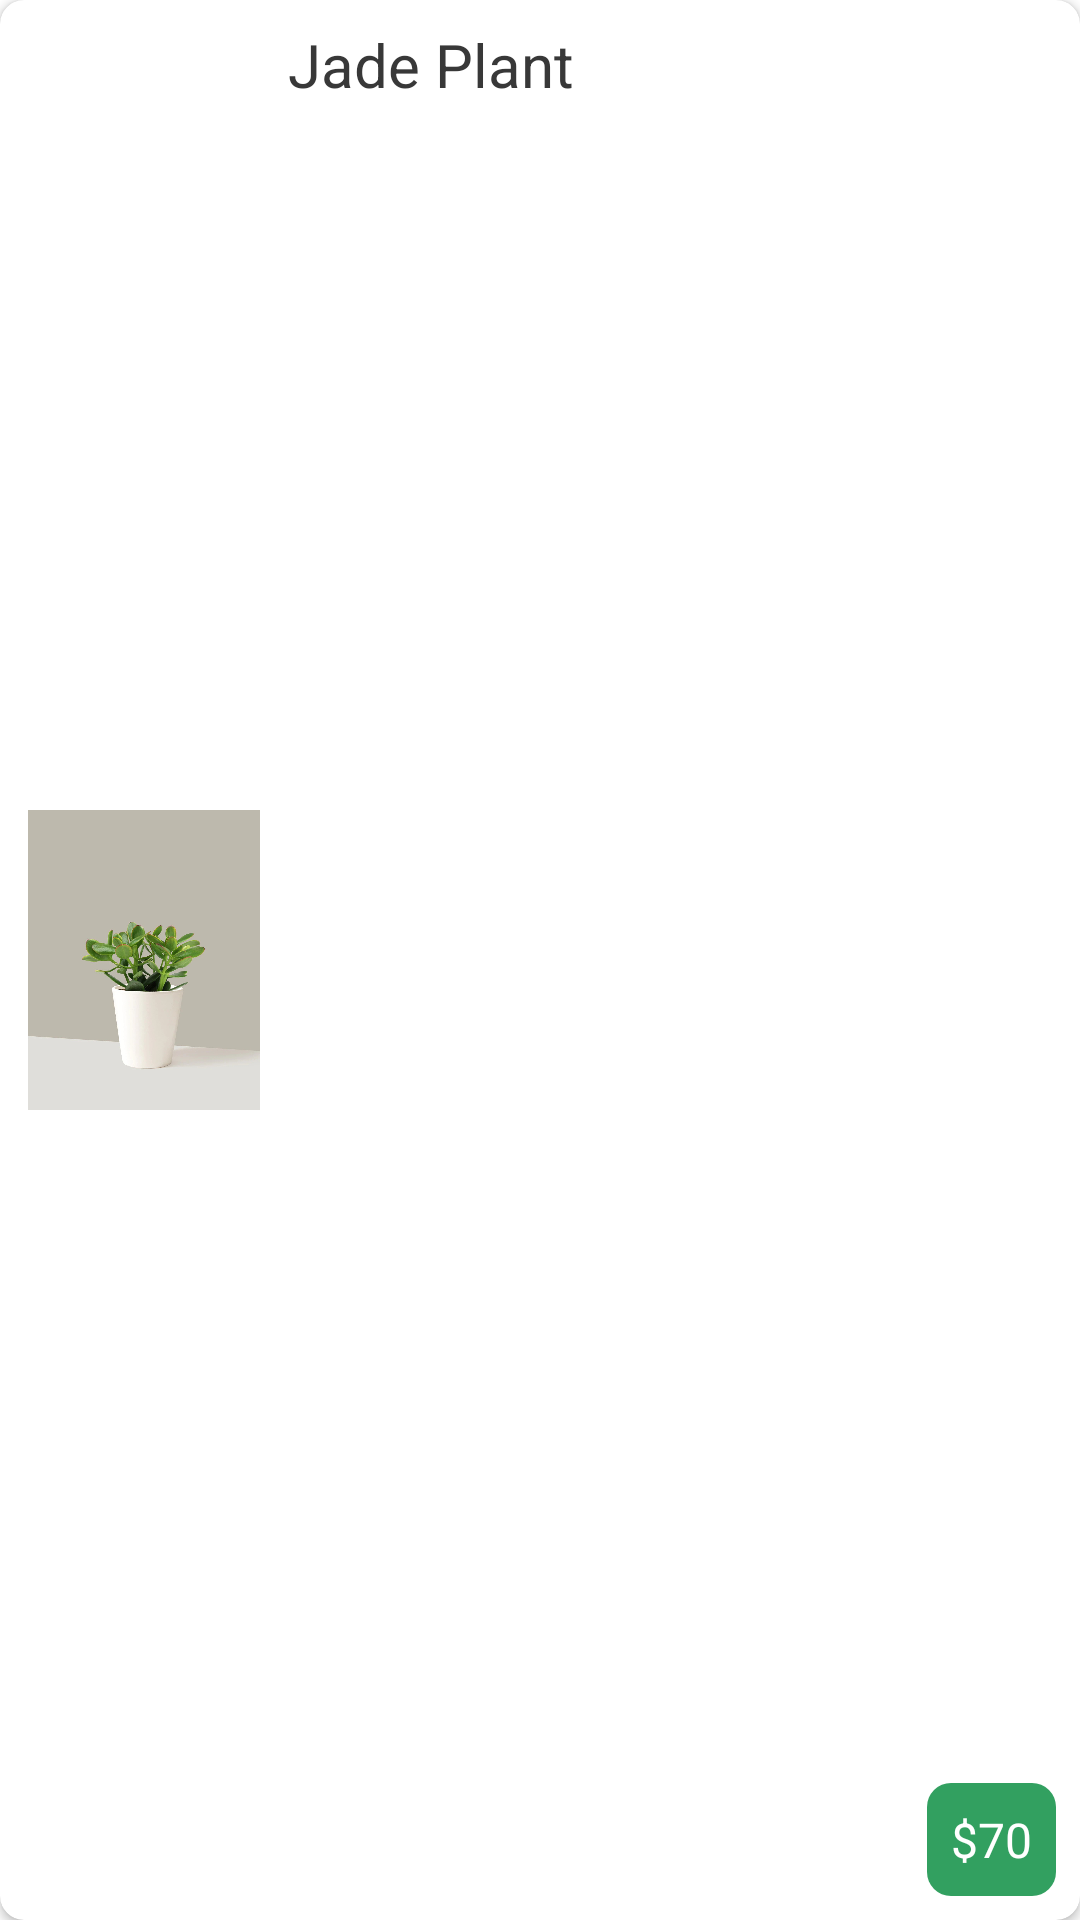

Screen size 1080px x 1920px. Icon name, then its center in pixels as [x,y]:
jade plant: [144,960]
